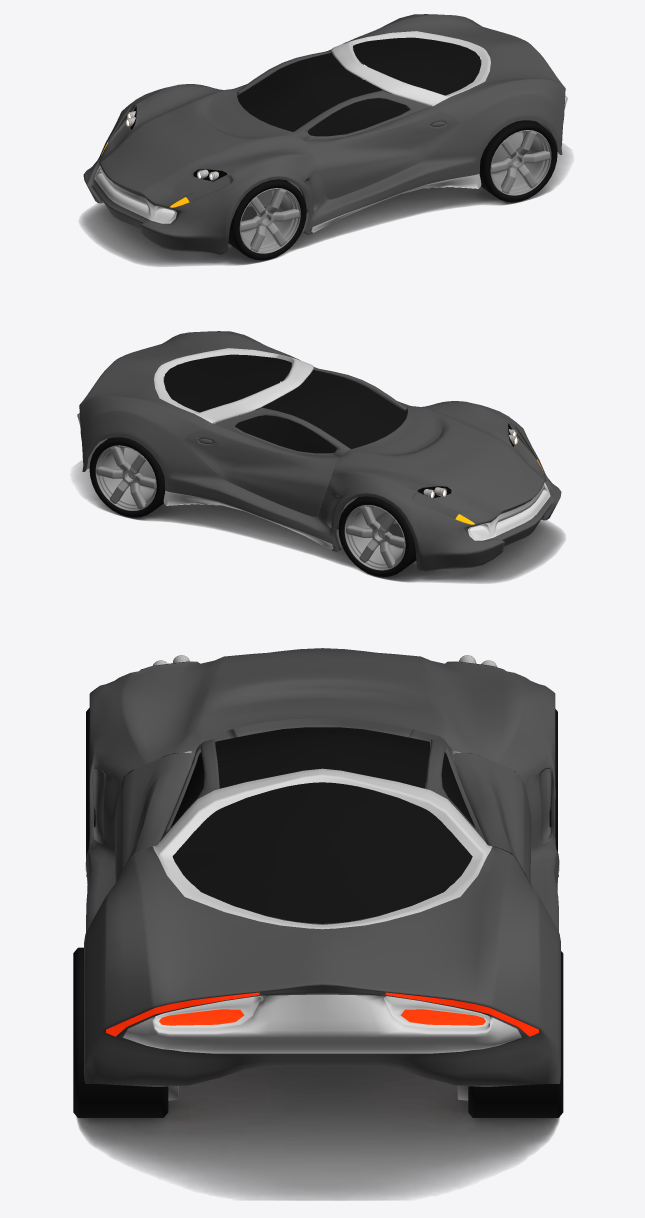
File: car.glb
3 renders of one model, top to bottom at view 1: azimuth 30°, elevation 25°; view 2: azimuth 150°, elevation 25°; view 3: azimuth 270°, elevation 25°, orthographic. The views are drawn at different scales.
Parts seen in each view (by area): view 1: carbody_Circle.001, doors_Circle.001, Plane, canopy_Circle.002, rearwindow_Circle.001, Circle.012_Circle.001, wheel_4_wheel.001, Circle.013_Circle.002, Circle.013_Circle.004, rim.002_Mesh.001, rim_Mesh.001, doors.001_Circle.001; view 2: carbody_Circle.001, doors.001_Circle.001, Plane, canopy_Circle.002, rearwindow_Circle.001, Circle.014_Circle.001, Circle.015_Circle.001, Circle.013_Circle.003, Circle.013_Circle.001, rim.003_Mesh.001, rim.004_Mesh.001, doors_Circle.001; view 3: carbody_Circle.001, Plane, rearwindow_Circle.001, canopy_Circle.002, doors.001_Circle.001, doors_Circle.001, Circle.012_Circle.001, Circle.015_Circle.001.
Part boxes in pixels (left/top/right/bottom): carbody_Circle.001: left=83, top=14, right=567, bottom=254; doors_Circle.001: left=293, top=90, right=460, bottom=199; Plane: left=79, top=132, right=572, bottom=266; canopy_Circle.002: left=237, top=53, right=381, bottom=131; rearwindow_Circle.001: left=353, top=37, right=480, bottom=95; Circle.012_Circle.001: left=479, top=120, right=557, bottom=202; wheel_4_wheel.001: left=228, top=179, right=306, bottom=260; Circle.013_Circle.002: left=240, top=189, right=299, bottom=251; Circle.013_Circle.004: left=491, top=131, right=550, bottom=193; rim.002_Mesh.001: left=490, top=130, right=551, bottom=195; rim_Mesh.001: left=239, top=188, right=300, bottom=253; doors.001_Circle.001: left=232, top=42, right=346, bottom=95; carbody_Circle.001: left=77, top=331, right=561, bottom=572; doors.001_Circle.001: left=184, top=407, right=350, bottom=516; Plane: left=71, top=447, right=565, bottom=583; canopy_Circle.002: left=263, top=370, right=407, bottom=449; rearwindow_Circle.001: left=164, top=354, right=291, bottom=412; Circle.014_Circle.001: left=338, top=496, right=416, bottom=577; Circle.015_Circle.001: left=89, top=437, right=165, bottom=517; Circle.013_Circle.003: left=96, top=446, right=155, bottom=509; Circle.013_Circle.001: left=346, top=506, right=404, bottom=568; rim.003_Mesh.001: left=344, top=505, right=405, bottom=570; rim.004_Mesh.001: left=95, top=445, right=156, bottom=510; doors_Circle.001: left=298, top=359, right=411, bottom=412; carbody_Circle.001: left=84, top=648, right=560, bottom=1086; Plane: left=76, top=1066, right=559, bottom=1200; rearwindow_Circle.001: left=173, top=782, right=471, bottom=923; canopy_Circle.002: left=215, top=727, right=429, bottom=788; doors.001_Circle.001: left=426, top=739, right=532, bottom=887; doors_Circle.001: left=115, top=739, right=219, bottom=883; Circle.012_Circle.001: left=73, top=947, right=168, bottom=1117; Circle.015_Circle.001: left=468, top=951, right=563, bottom=1117.
Bounding box in the file's own units: 9.15 × 2.24 × 5.2.
13 materials, 1 textured.
